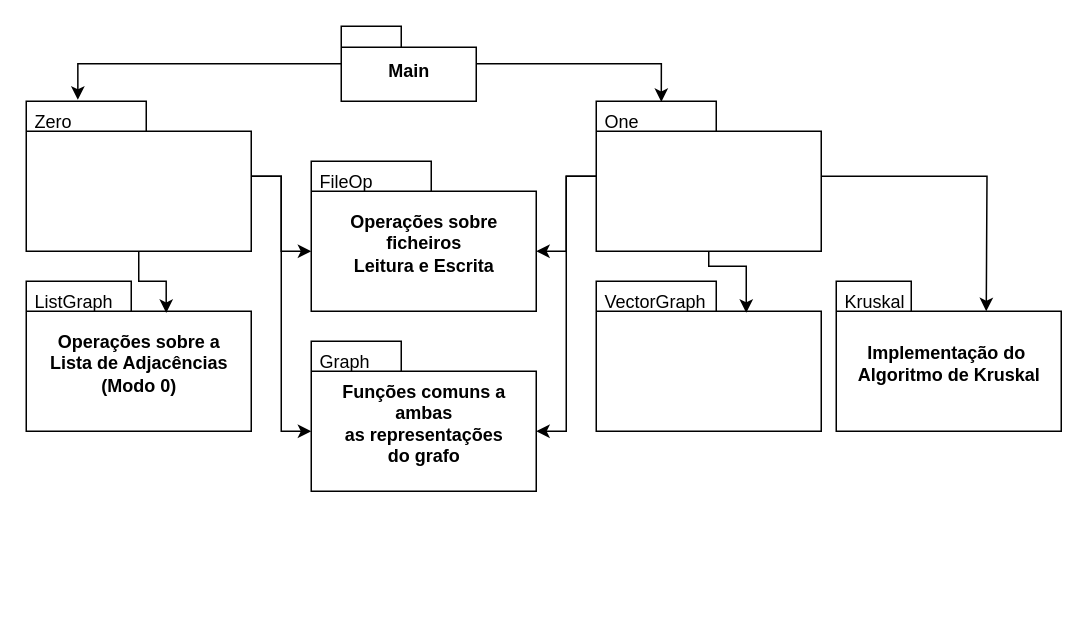
Some shapes in this 1088 by 623 pixel diagram are drawn without their labels. The box of each missing label's shape, as (x1, y1, x2, y2) in pixels:
Controlo do Modo 0 e suas variantes: (25, 100, 251, 251)
Controlo do Modo 1 e suas variantes: (595, 100, 821, 251)
Operações sobre o Vetor de Arestas (Modo 1): (595, 280, 821, 431)
